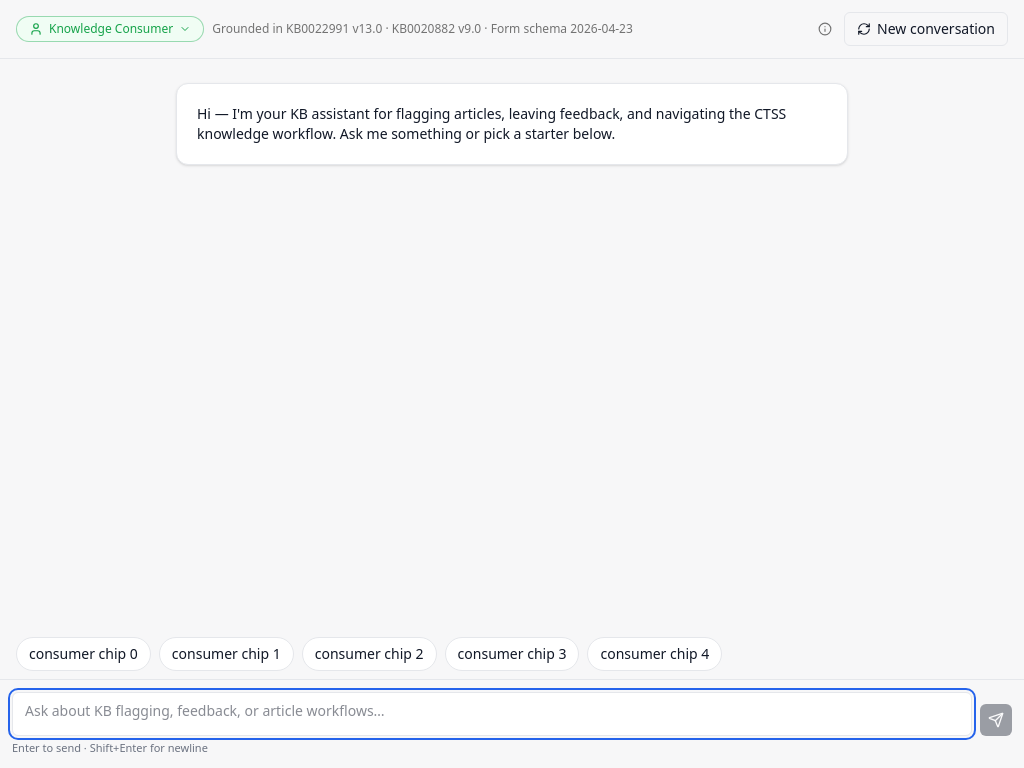
Scenario: ChatSurface › New conversation clears messages, greeting returns, chip row reappears, role preserved
# Send a message to populate chat
In the text box: (492, 714) [12,692,972,736], type "A question"
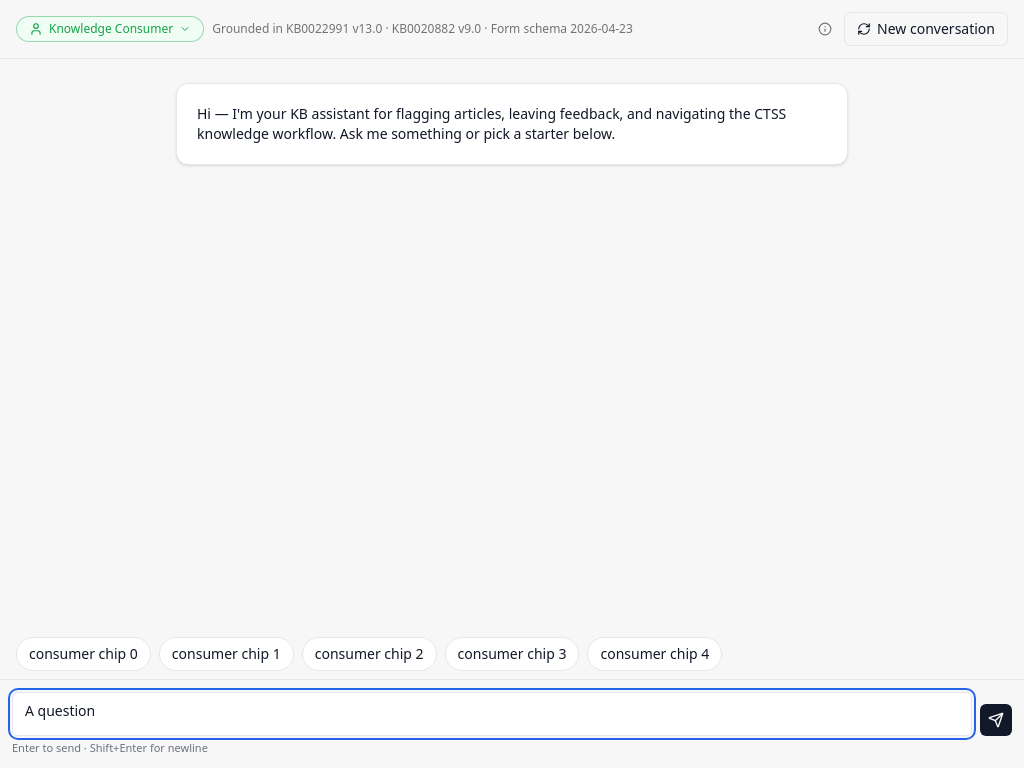
Press Enter
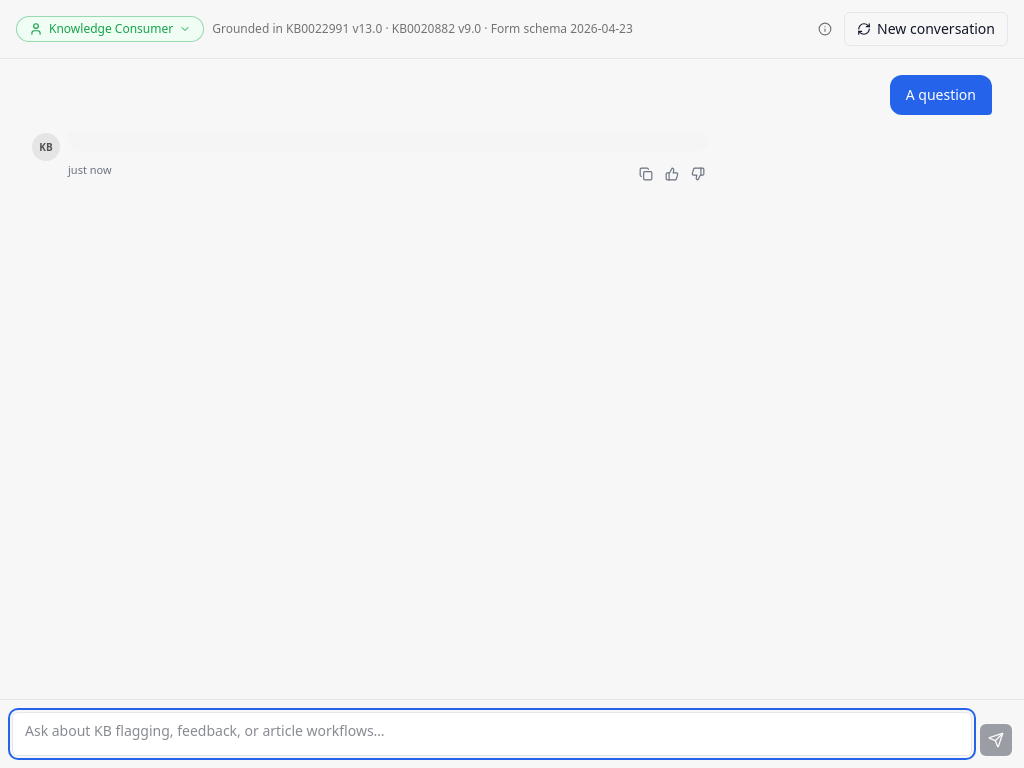
Expected: the text "A question" is shown, [906,85,976,105]
Expected: no list items are shown
# Click "New conversation"
Click the button "New conversation": (926, 29) [844,12,1008,46]
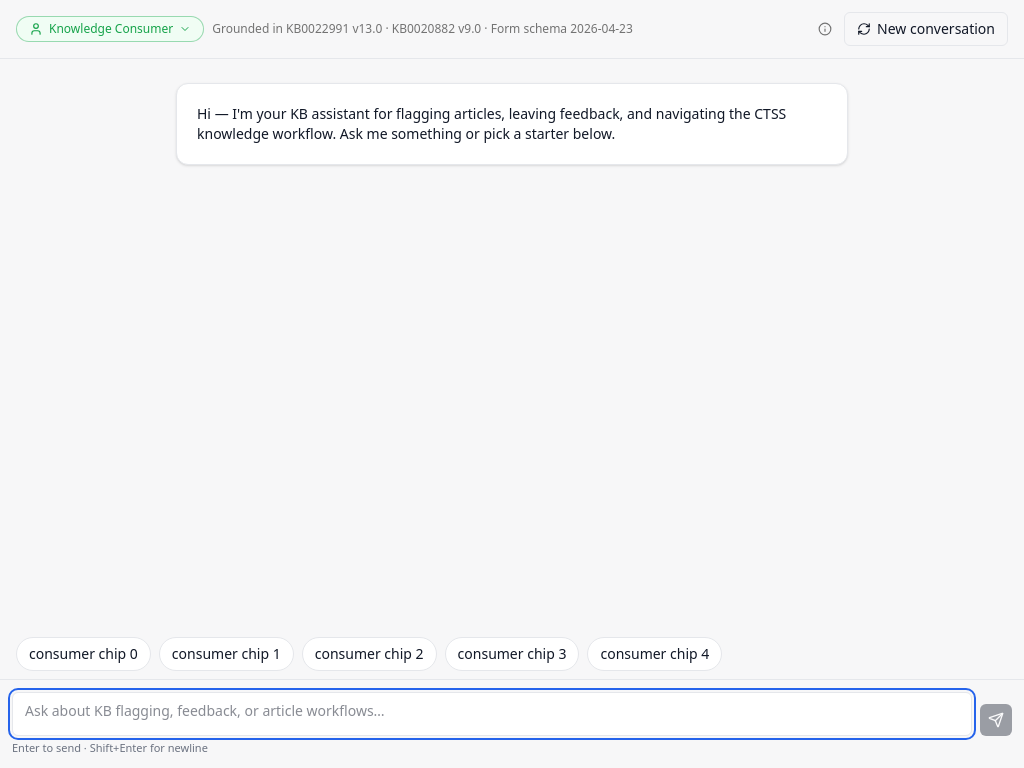
Expected: the text "A question" is gone
Expected: the element named "welcome" is shown, [176,83,848,165]
Expected: the number of list items is 5, [16,636,151,670]; [159,636,294,670]; [302,636,437,670]; [445,636,580,670]; [587,636,722,670]
